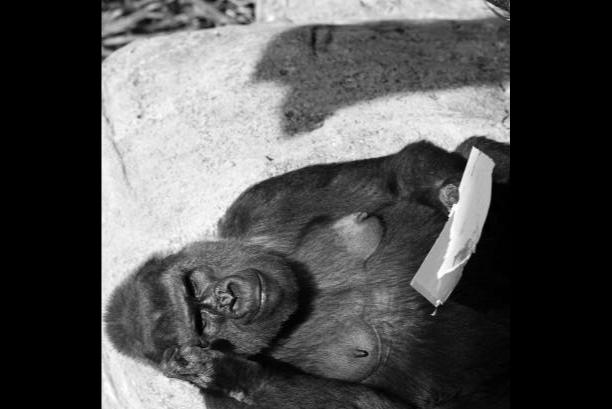gorille_Autres: (101, 117, 490, 409)
